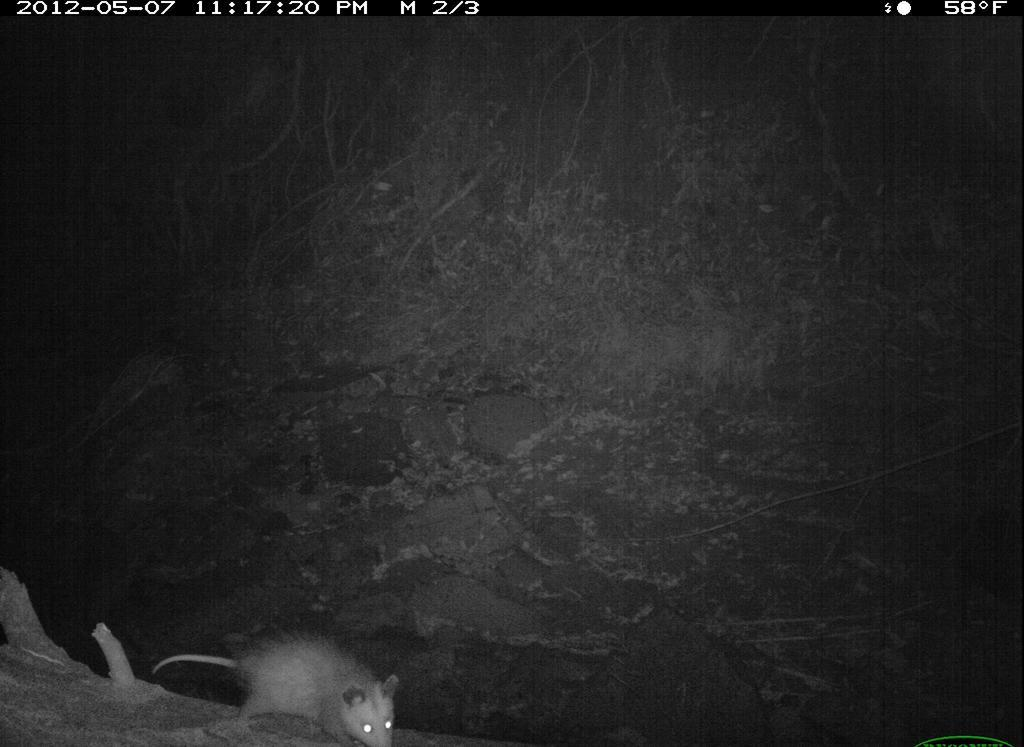opossum: (157, 628, 420, 747)
